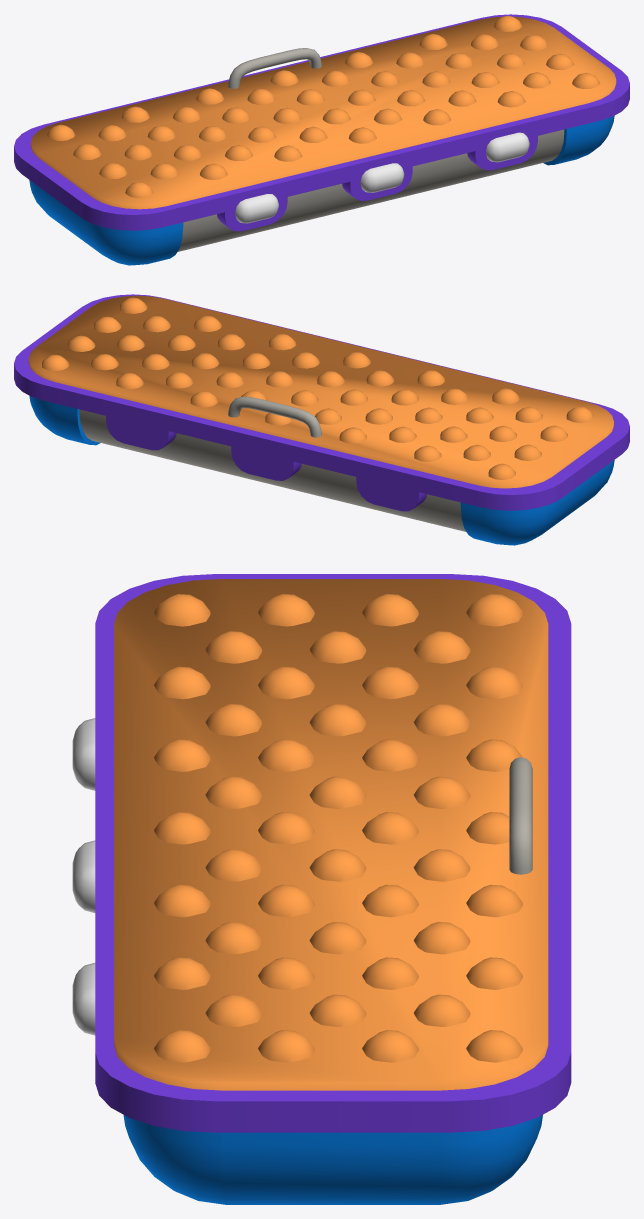
File: chained_platform.fbx
The picture shows the model from 3 angles, top to bottom: view 1: azimuth 30°, elevation 25°; view 2: azimuth 150°, elevation 25°; view 3: azimuth 270°, elevation 25°; orthographic projection. The views are drawn at different scales.
Visible parts, largest first — view 1: top, platform_bottm, lights, handle; view 2: top, platform_bottm, handle; view 3: top, platform_bottm, lights, handle.
Part boxes in pixels (x1,y1,x2,y2): top: (31, 15, 616, 209); platform_bottm: (14, 14, 629, 265); lights: (235, 132, 529, 223); handle: (228, 48, 321, 88); top: (28, 295, 613, 488); platform_bottm: (14, 294, 629, 545); handle: (228, 396, 321, 437); top: (114, 579, 548, 1090); platform_bottm: (95, 574, 571, 1204); lights: (72, 718, 95, 1035); handle: (509, 757, 532, 874).
Size of the model in its own units: 217 by 38.43 by 86.77.
